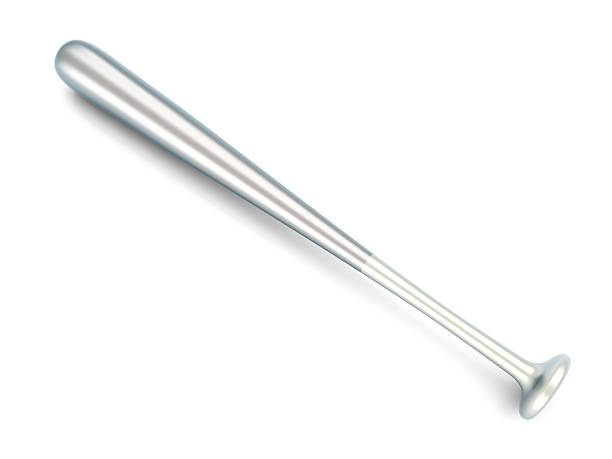bita: (53, 41, 566, 398)
